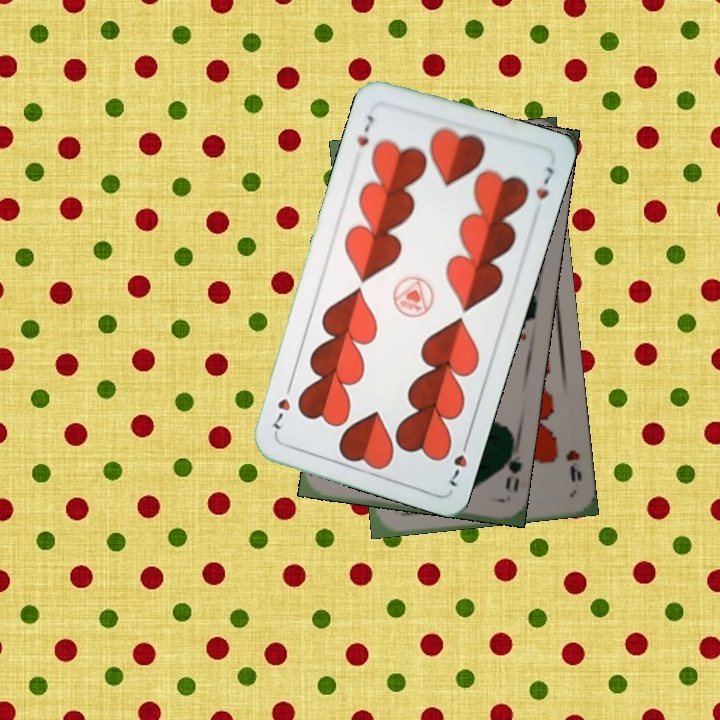GO: (496, 440, 524, 497)
H7: (445, 434, 472, 490), (353, 111, 377, 149)
H9: (562, 445, 584, 485)
